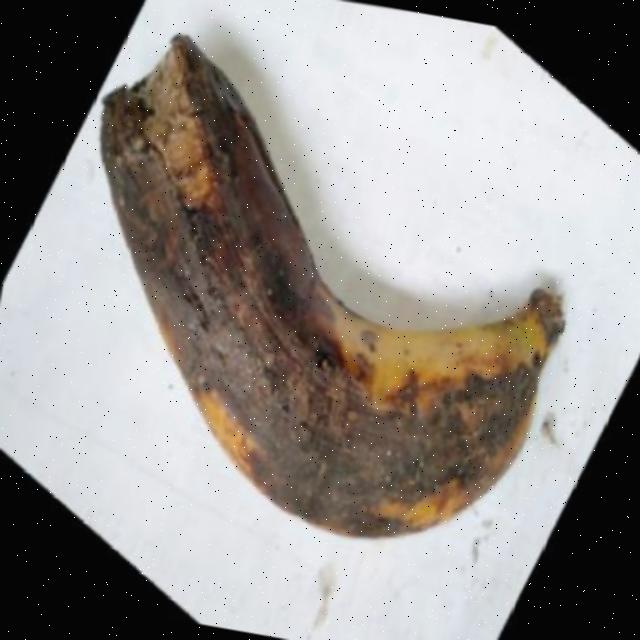Rotten: (3, 0, 640, 593)
